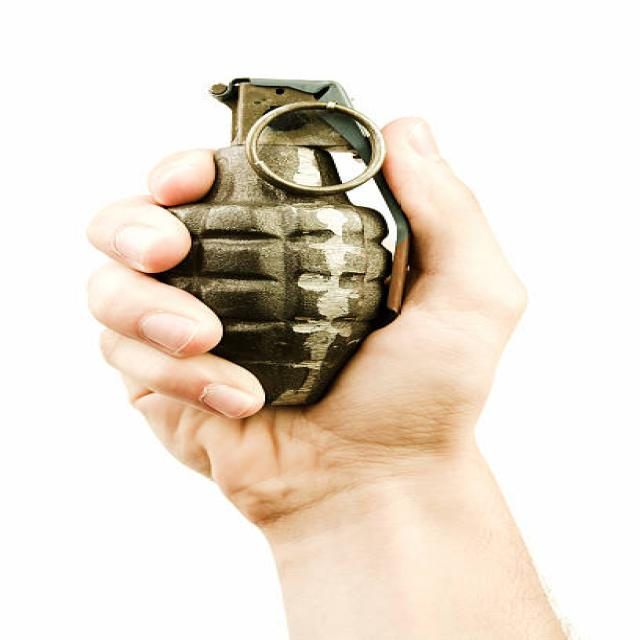grenade: (151, 70, 425, 408)
